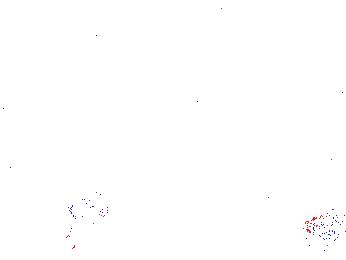X-ray fish: (71, 193, 108, 224)
glassfish: (128, 130, 235, 180), (61, 169, 121, 258)
